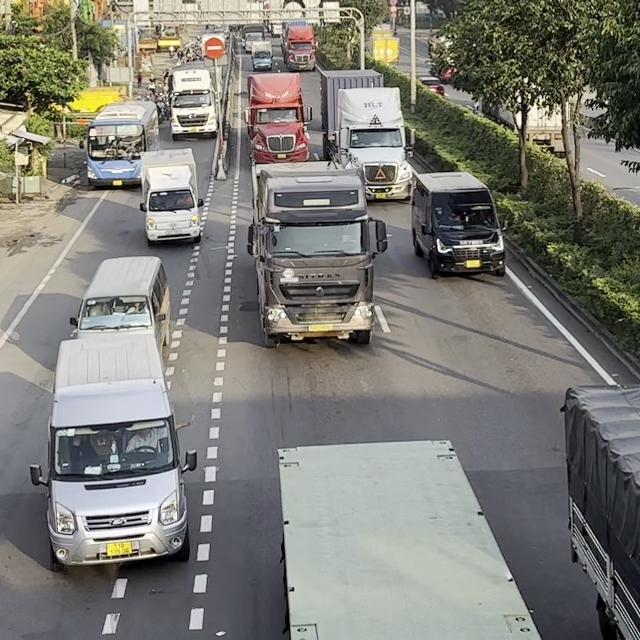bus: (82, 99, 160, 188)
car: (29, 330, 197, 571), (410, 170, 506, 279), (68, 254, 171, 351)
truck: (276, 438, 544, 639), (246, 159, 388, 347), (560, 382, 639, 639), (319, 70, 416, 201), (138, 147, 205, 245), (244, 71, 313, 164), (165, 65, 218, 140), (280, 20, 317, 71), (241, 24, 265, 52), (251, 41, 273, 70)
